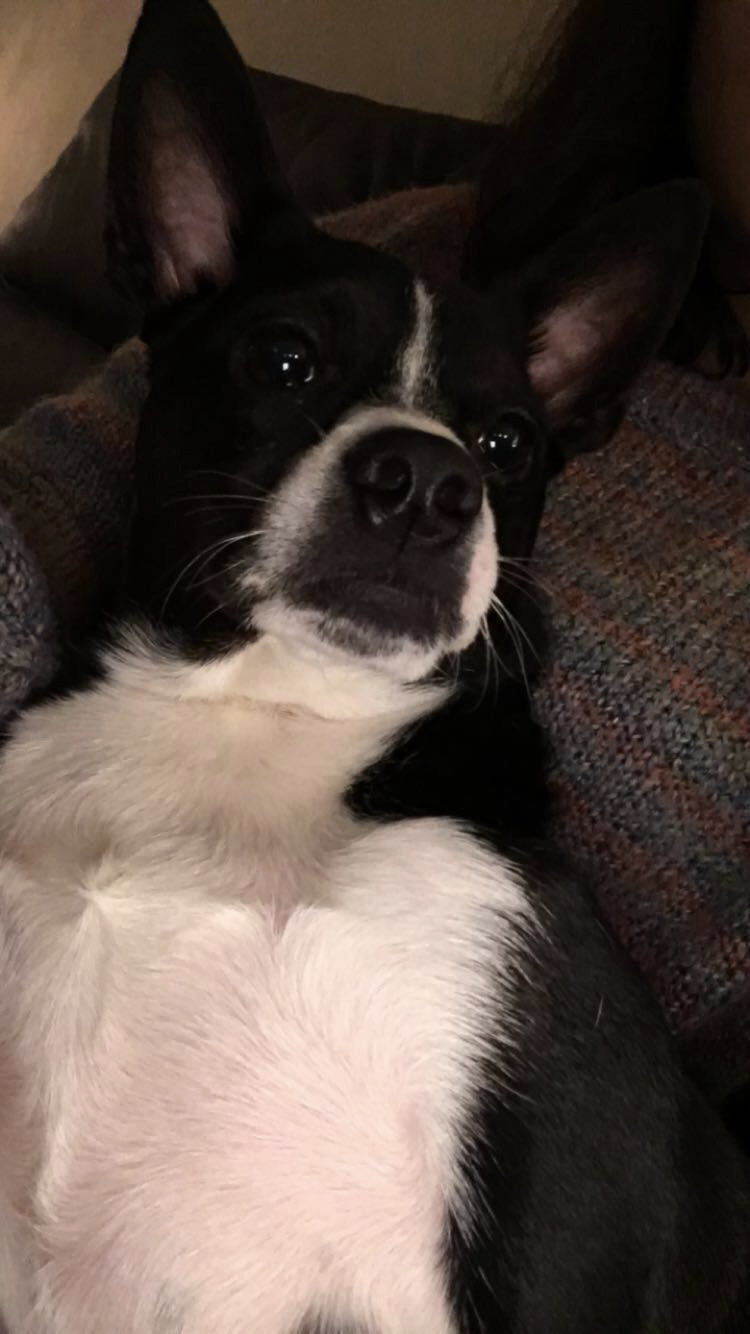Harley: (18, 1, 747, 1324)
